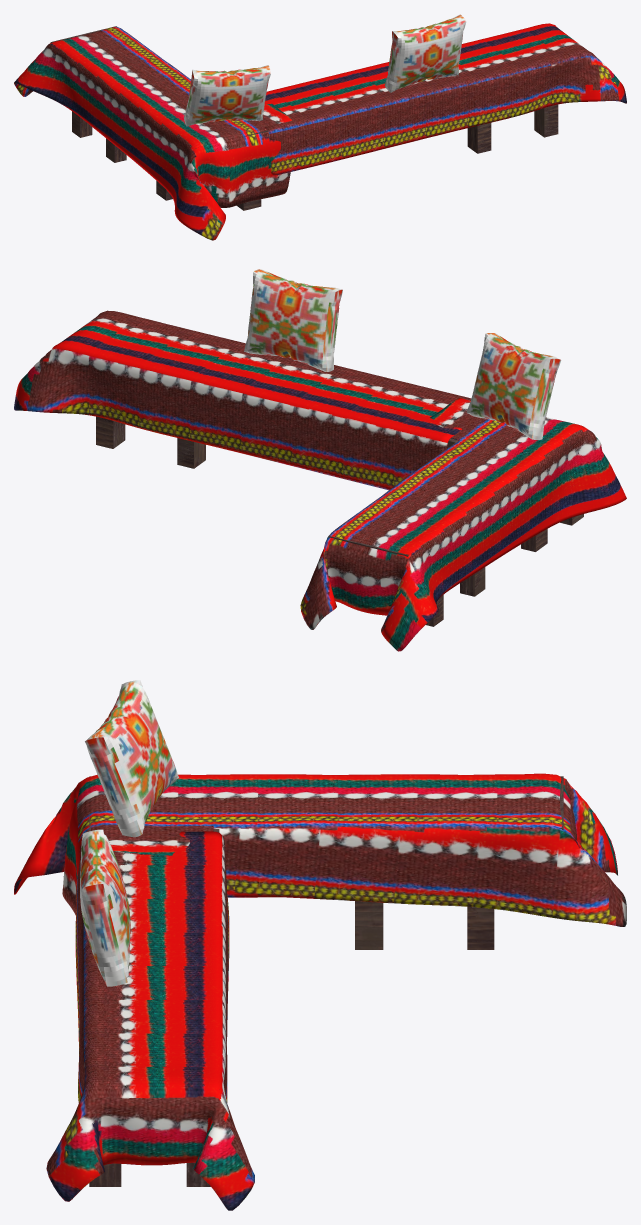
Rendered from divanche_done.fbx.
The picture shows the model from 3 angles, top to bottom: view 1: azimuth 30°, elevation 25°; view 2: azimuth 150°, elevation 25°; view 3: azimuth 270°, elevation 25°; orthographic projection. The views are drawn at different scales.
Visible parts, largest first — view 1: Plane.004, Cube.013, Cube.001, Cube.012; view 2: Plane.004, Cube.013, Cube.001, Cube.012; view 3: Plane.004, Cube.001, Cube.013, Cube.012.
Boxes of the visible parts, box(x1,y1,x2,y2) form: Plane.004: box(14, 23, 626, 240); Cube.013: box(384, 14, 466, 92); Cube.001: box(184, 65, 270, 126); Cube.012: box(50, 26, 558, 210); Plane.004: box(14, 310, 626, 651); Cube.013: box(244, 269, 342, 371); Cube.001: box(466, 333, 561, 439); Cube.012: box(96, 416, 583, 626); Plane.004: box(14, 773, 626, 1210); Cube.001: box(85, 680, 178, 837); Cube.013: box(80, 829, 130, 986); Cube.012: box(89, 776, 563, 1186).
Size of the model in its own units: 349 by 102 by 248.
